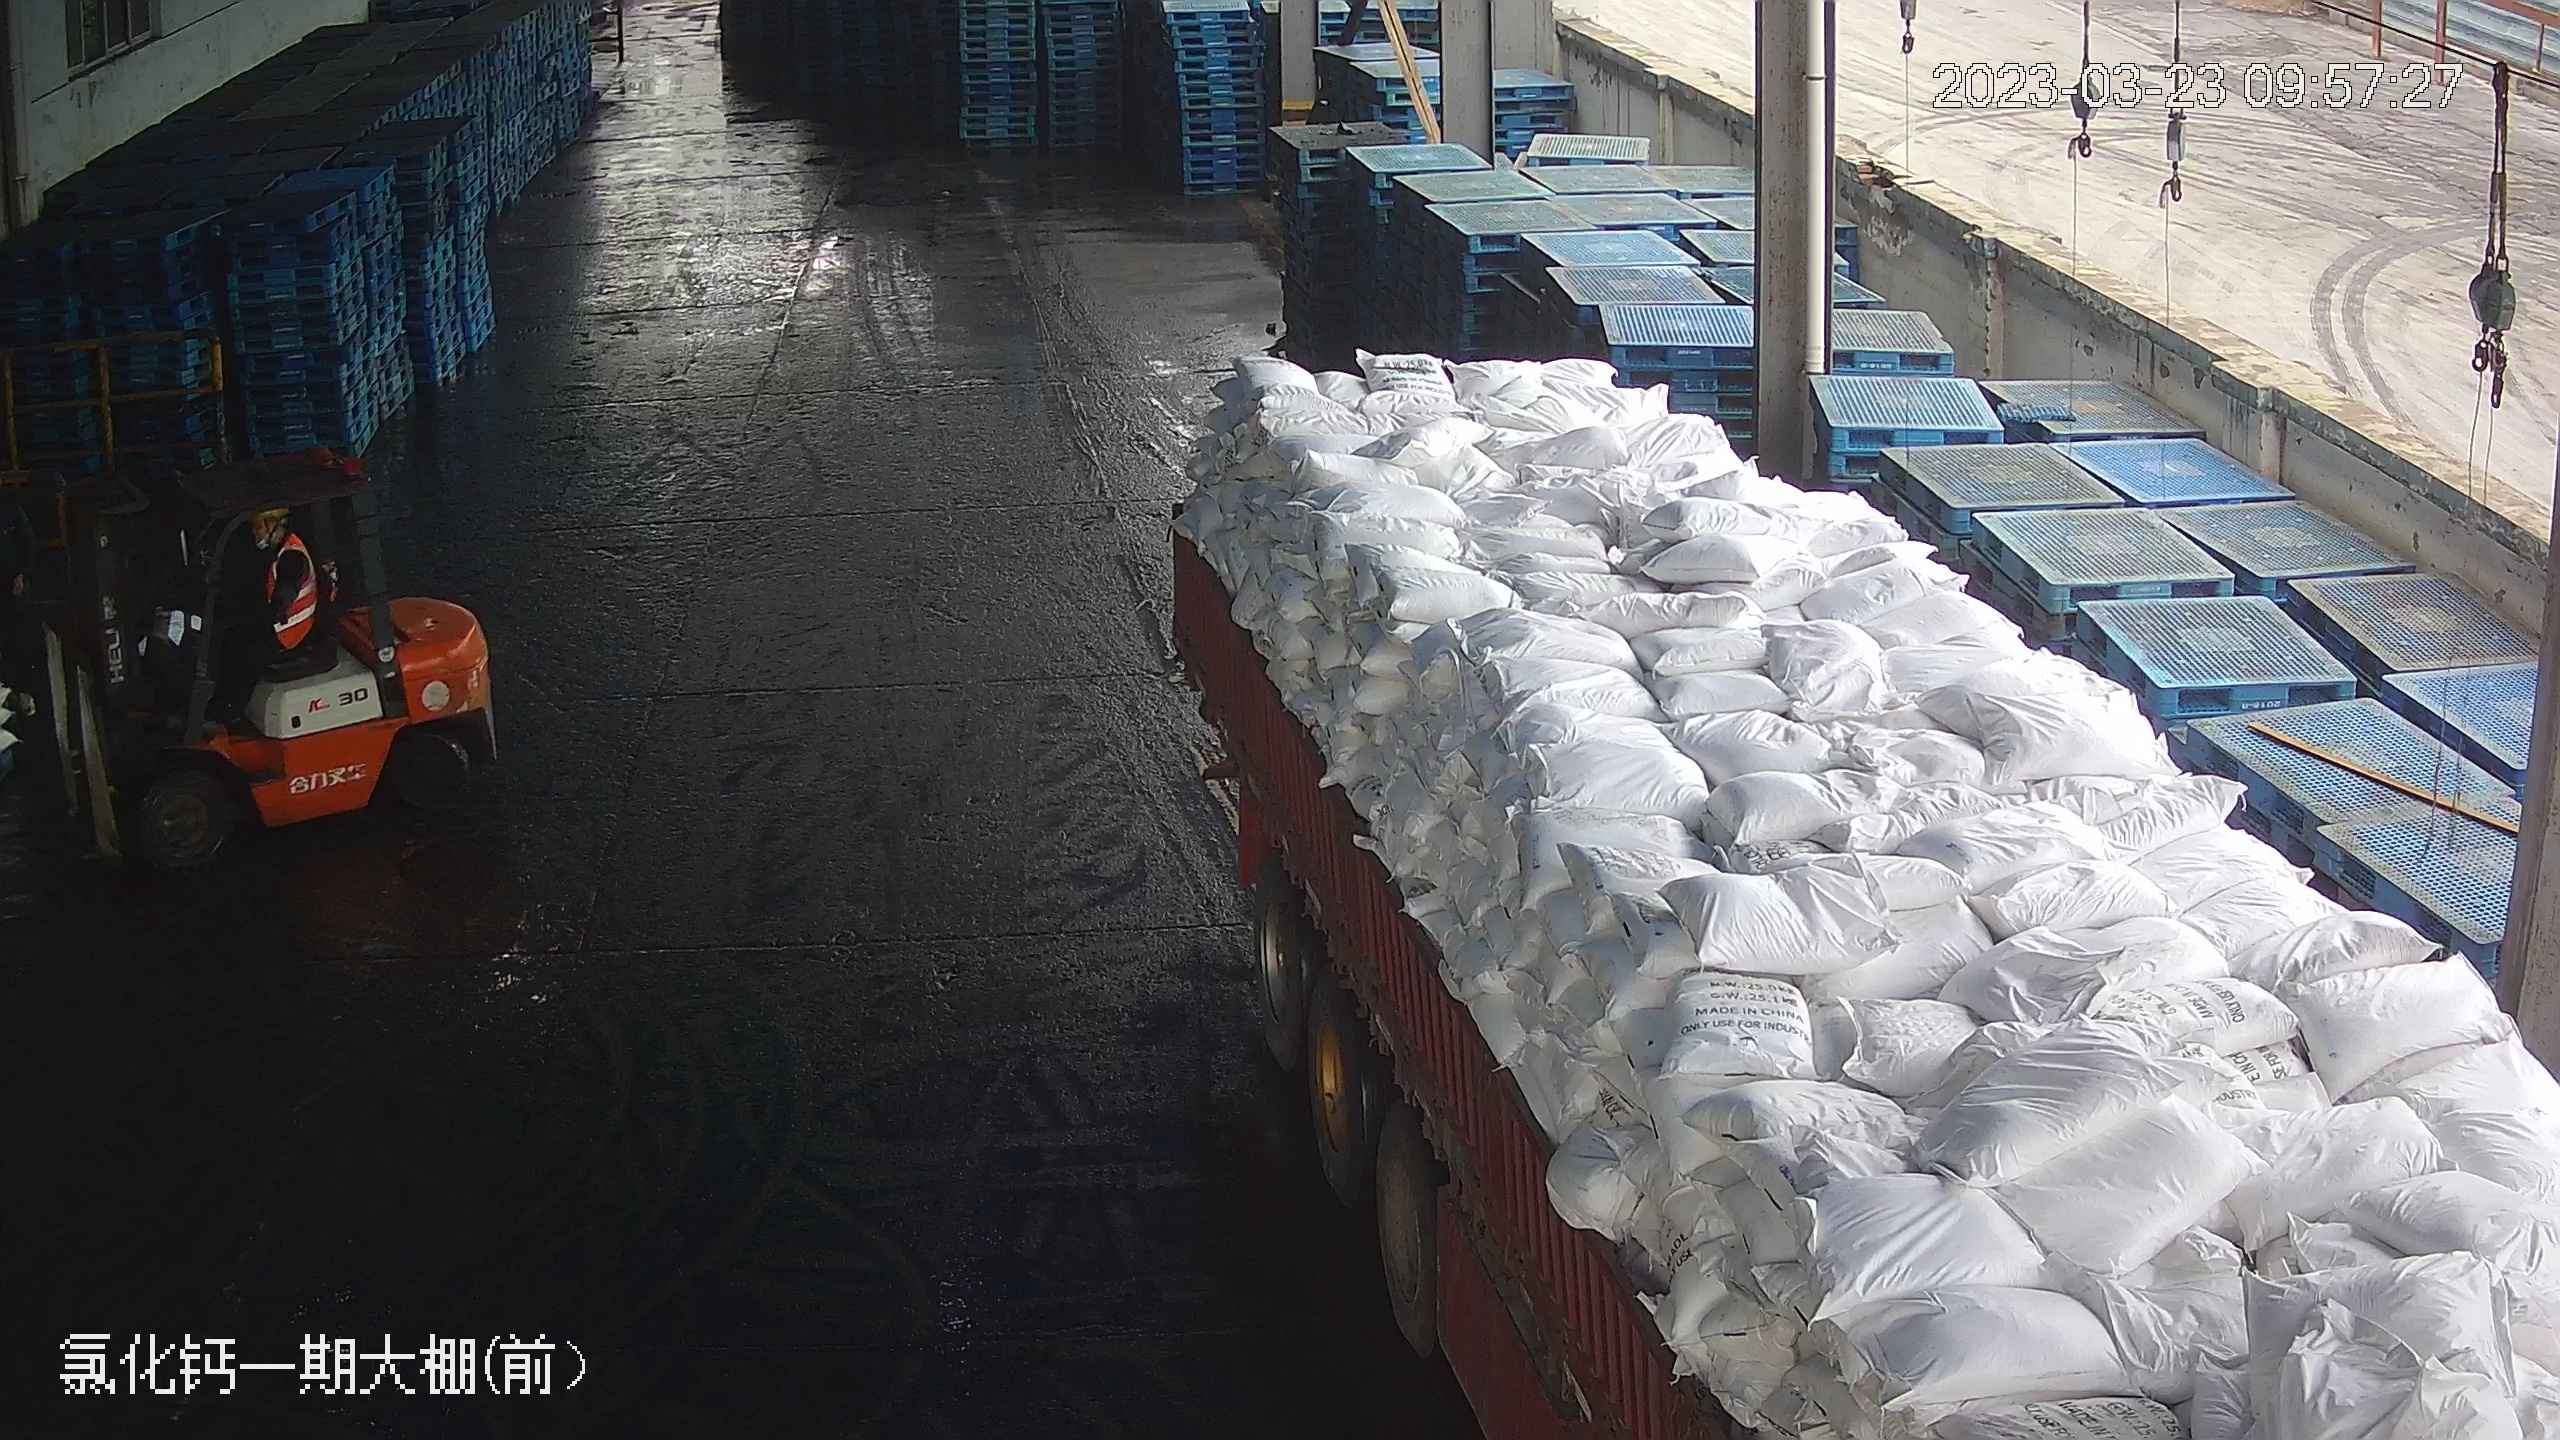head: (234, 506, 317, 590)
people: (180, 505, 325, 717)
truck: (1129, 242, 2533, 1440)
